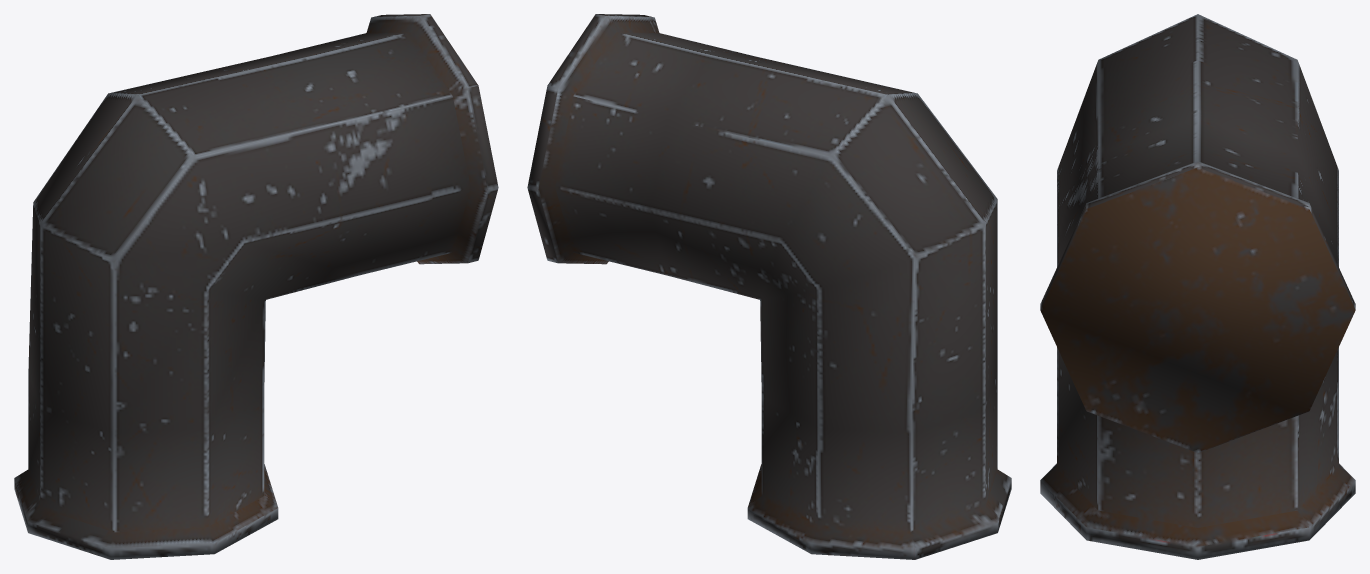
File: pipe_bend.gltf
3 renders of one model, left to right at view 1: azimuth 30°, elevation 25°; view 2: azimuth 150°, elevation 25°; view 3: azimuth 270°, elevation 25°, orthographic. The views are drawn at different scales.
Parts seen in each view (by area): view 1: Cylinder.010; view 2: Cylinder.010; view 3: Cylinder.010.
Boxes of the visible parts, x1,y1,x2,y2 form: Cylinder.010: (14,14,498,559); Cylinder.010: (527,14,1011,559); Cylinder.010: (1040,14,1355,559).
Size of the model in its own units: 4.25 by 4.25 by 2.5.
Materials: 1 (1 with a texture image).
